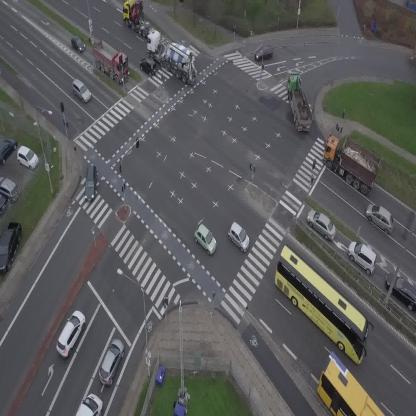bus: (258, 243, 386, 366)
car: (51, 308, 90, 358), (95, 336, 129, 387), (342, 236, 384, 276), (302, 205, 342, 244), (361, 199, 400, 235), (189, 222, 222, 256), (223, 221, 255, 253), (67, 77, 95, 104), (136, 55, 160, 78), (66, 33, 88, 55), (84, 165, 97, 201), (254, 45, 273, 60), (411, 51, 416, 63)
lorry: (313, 128, 389, 196), (135, 27, 208, 87), (84, 36, 138, 86), (282, 71, 315, 134), (76, 394, 102, 416)
